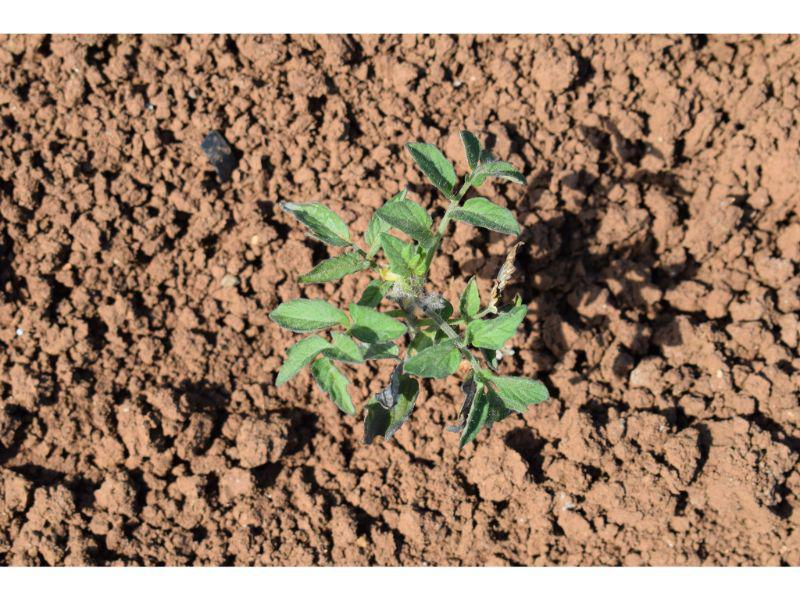tomato: (268, 127, 549, 448)
